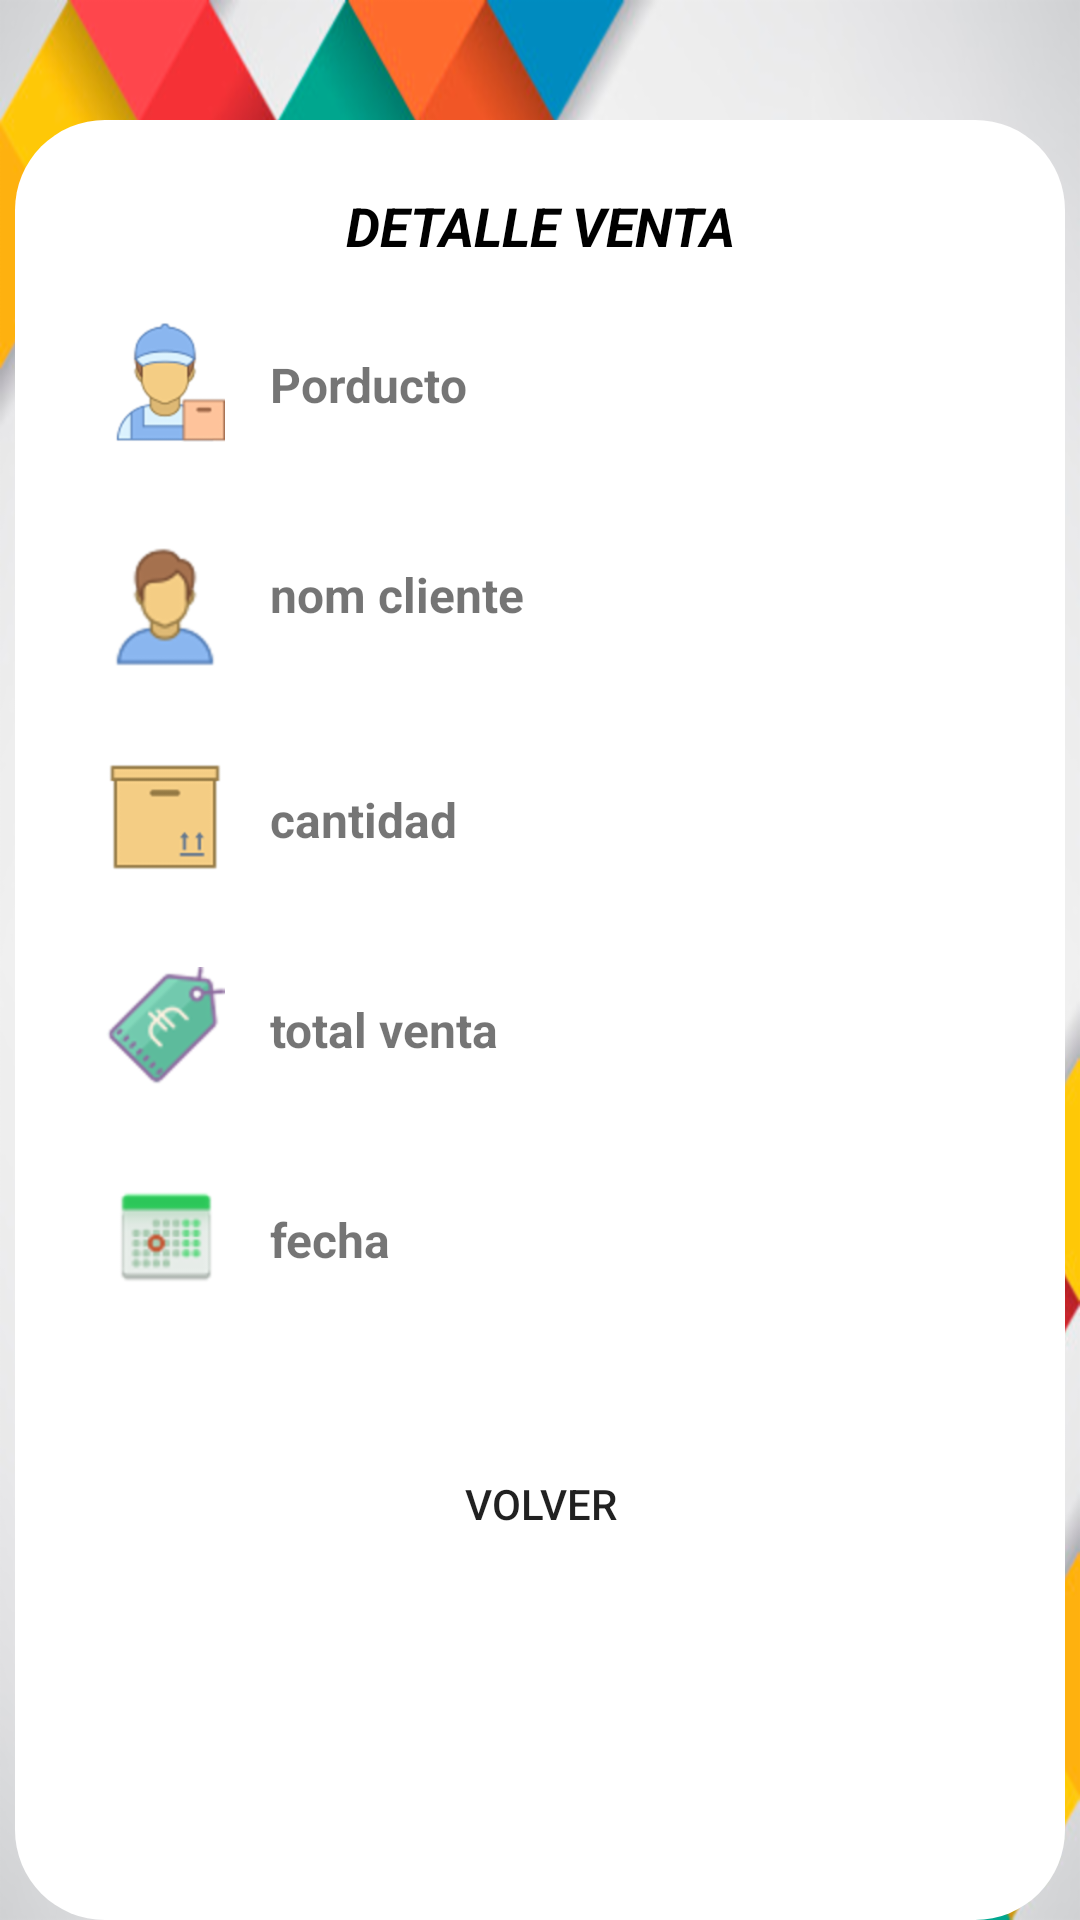

Where to tap for icons on this 1080x1920 app screen, as [x,y]:
calendar: [166,1236]
person: [165,606]
price: [166,1025]
proveeddor: [170,382]
